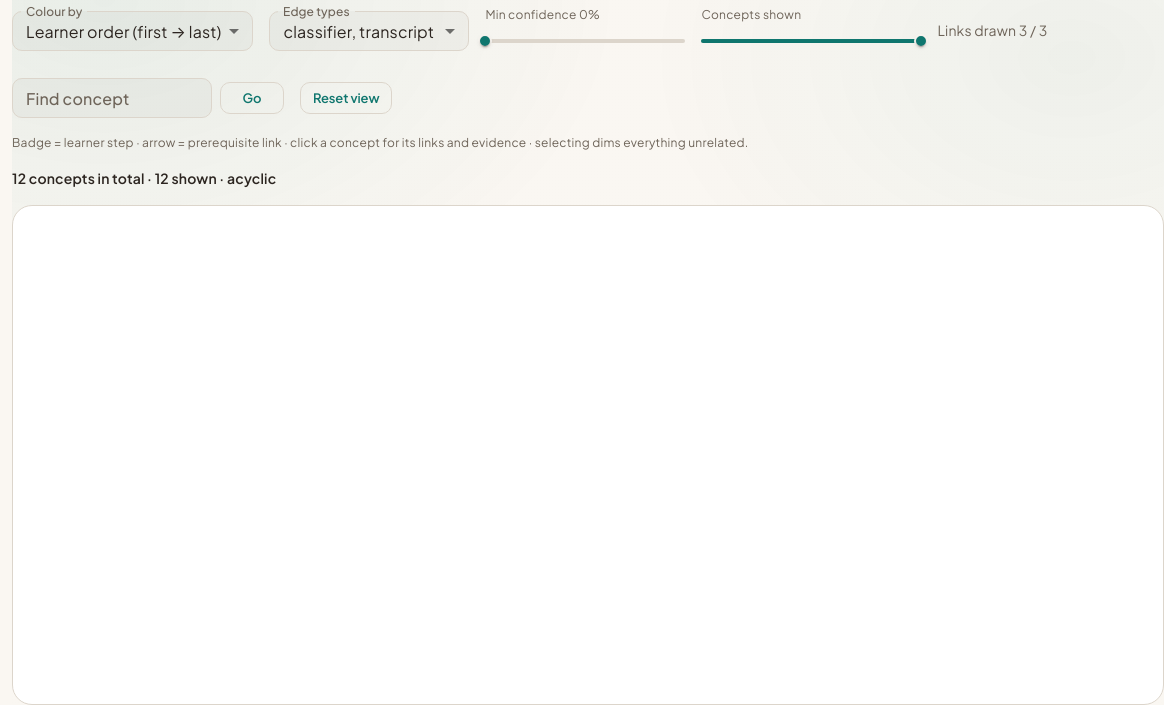
Test: DagView › find-concept selects the first match and says how many there were
Click the field labelled "Find concept" at (112, 98), box [12, 78, 212, 118]
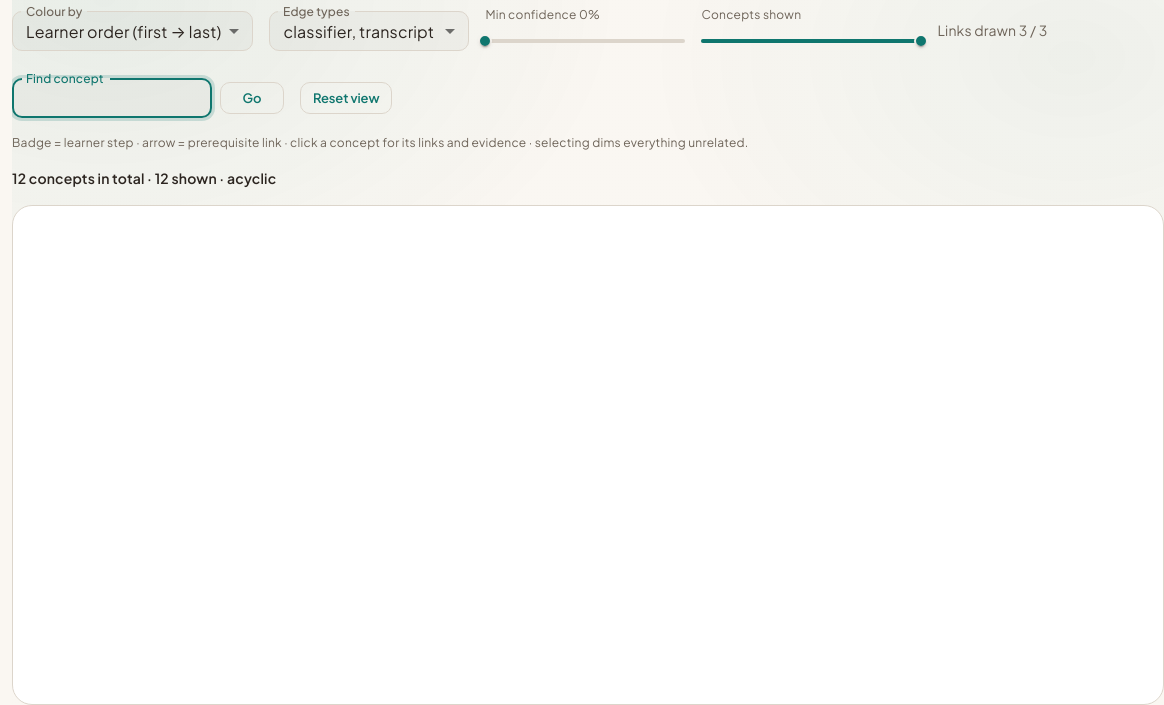
Type keys "slo"
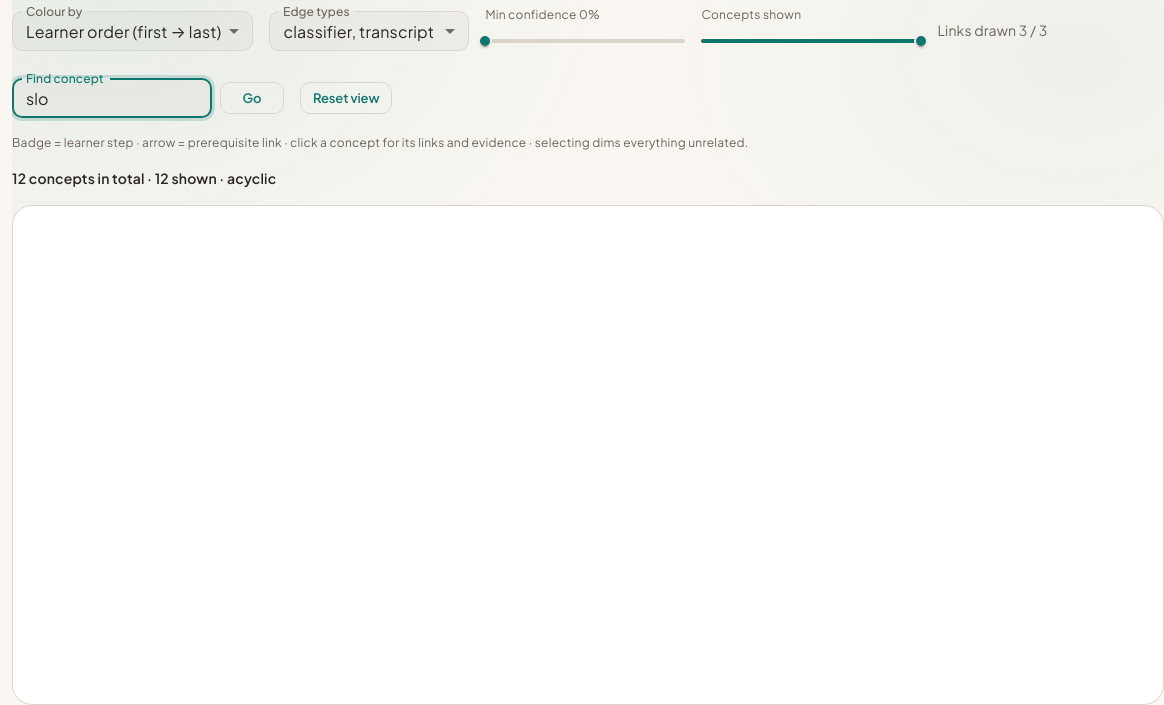
Press Enter
(page scrolled)
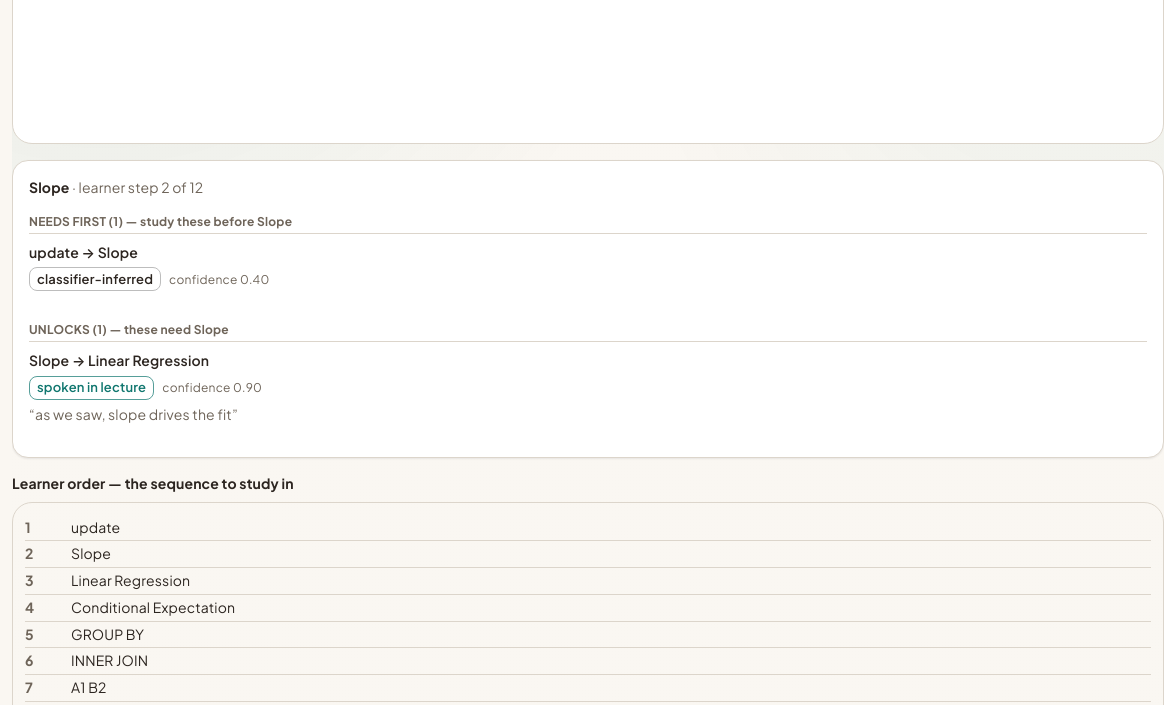
Now the text "Slope → Linear Regression" is shown, box [29, 351, 209, 369]
